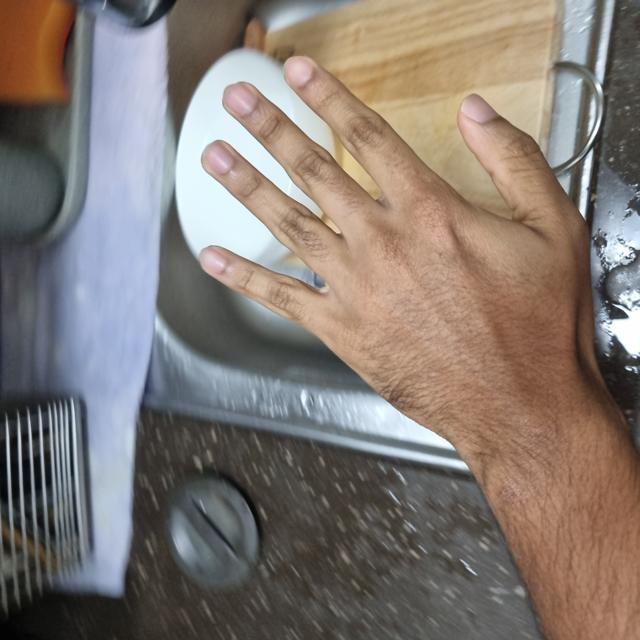Paper: (189, 196, 578, 591)
